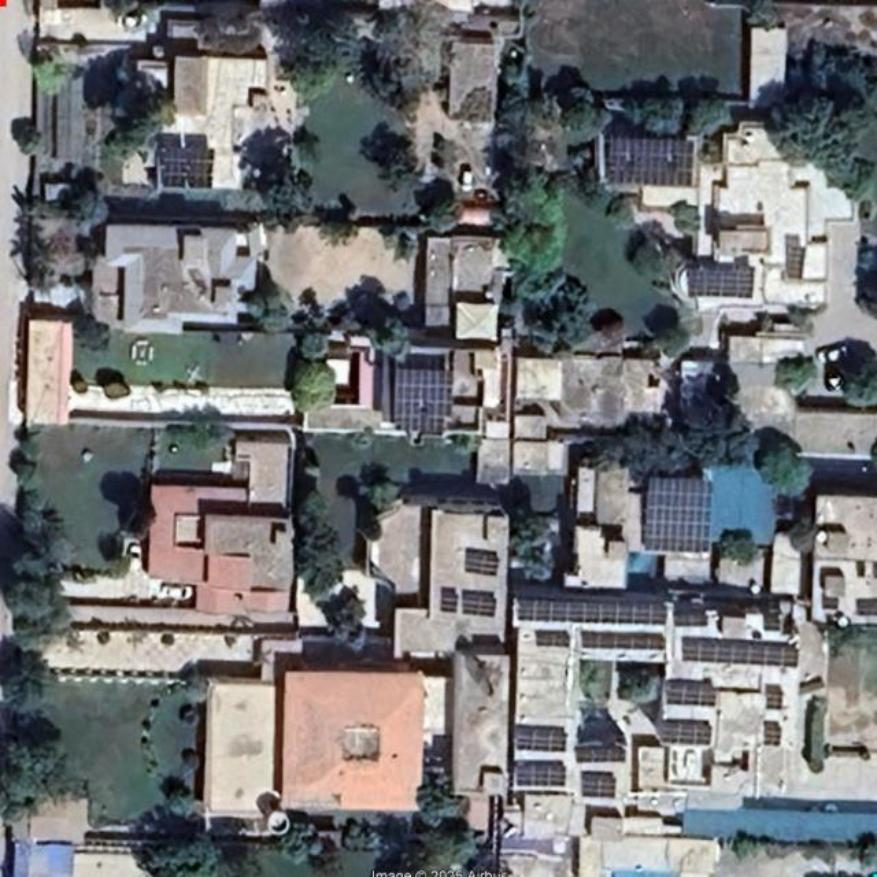Solarpanel: (646, 479, 712, 552), (522, 595, 665, 625), (606, 137, 693, 186), (393, 365, 452, 436), (683, 636, 796, 669), (158, 143, 215, 191), (691, 268, 757, 298), (580, 631, 668, 649), (516, 764, 567, 790), (662, 721, 710, 744), (519, 728, 567, 751), (463, 549, 501, 577), (580, 773, 617, 799), (662, 686, 709, 706), (460, 593, 496, 618), (577, 747, 627, 763), (785, 245, 807, 281), (536, 629, 571, 650), (765, 721, 782, 746), (767, 688, 784, 710), (443, 594, 457, 610)
